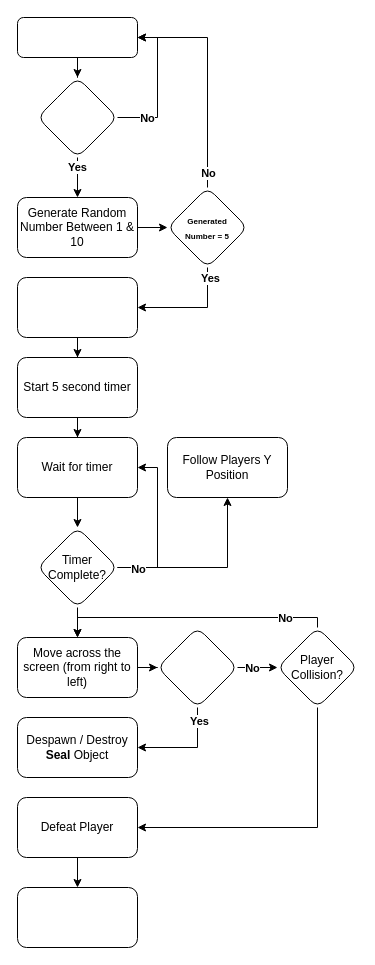
Some shapes in this 375 by 965 pixel diagram are drawn without their labels. Here are the shapes that lost their labels. From the top down, the centre of each, then its label:
the point at 77,37: Player Running
the point at 77,117: Has Player Reached 200(?)m?
the point at 77,307: Spawn Seal offscreen
the point at 197,667: Reached Despawn Area?
the point at 77,917: End Run
